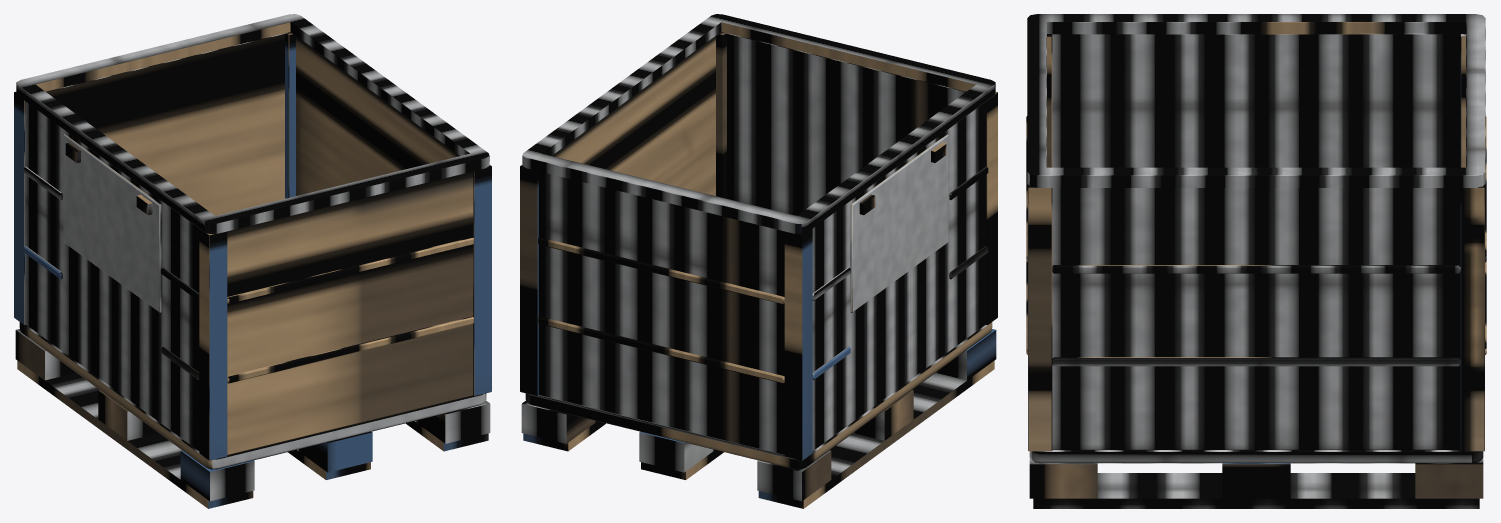
Rendered from LargeLoadCarrier.fbx.
The picture shows the model from 3 angles, left to right: view 1: azimuth 30°, elevation 25°; view 2: azimuth 150°, elevation 25°; view 3: azimuth 270°, elevation 25°; orthographic projection. The views are drawn at different scales.
Visible parts, largest first — view 1: LargeLoadCarrier_LOD0; view 2: LargeLoadCarrier_LOD0; view 3: LargeLoadCarrier_LOD0.
Boxes of the visible parts, x1,y1,x2,y2 form: LargeLoadCarrier_LOD0: [14, 14, 491, 508]; LargeLoadCarrier_LOD0: [520, 14, 997, 508]; LargeLoadCarrier_LOD0: [1026, 14, 1486, 508].
Size of what is drawn, in the model's own units: 1.03 by 0.975 by 1.22.
